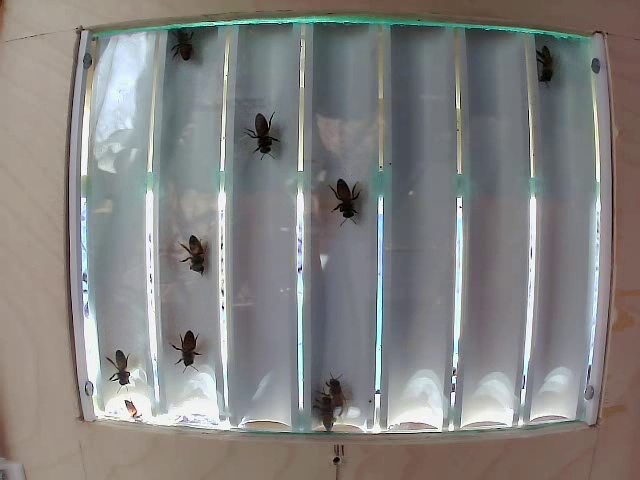bee: (322, 163, 372, 225), (180, 220, 218, 294), (164, 313, 210, 371), (169, 24, 213, 76), (248, 111, 287, 166), (88, 347, 131, 382), (326, 373, 360, 415), (528, 37, 555, 85)
